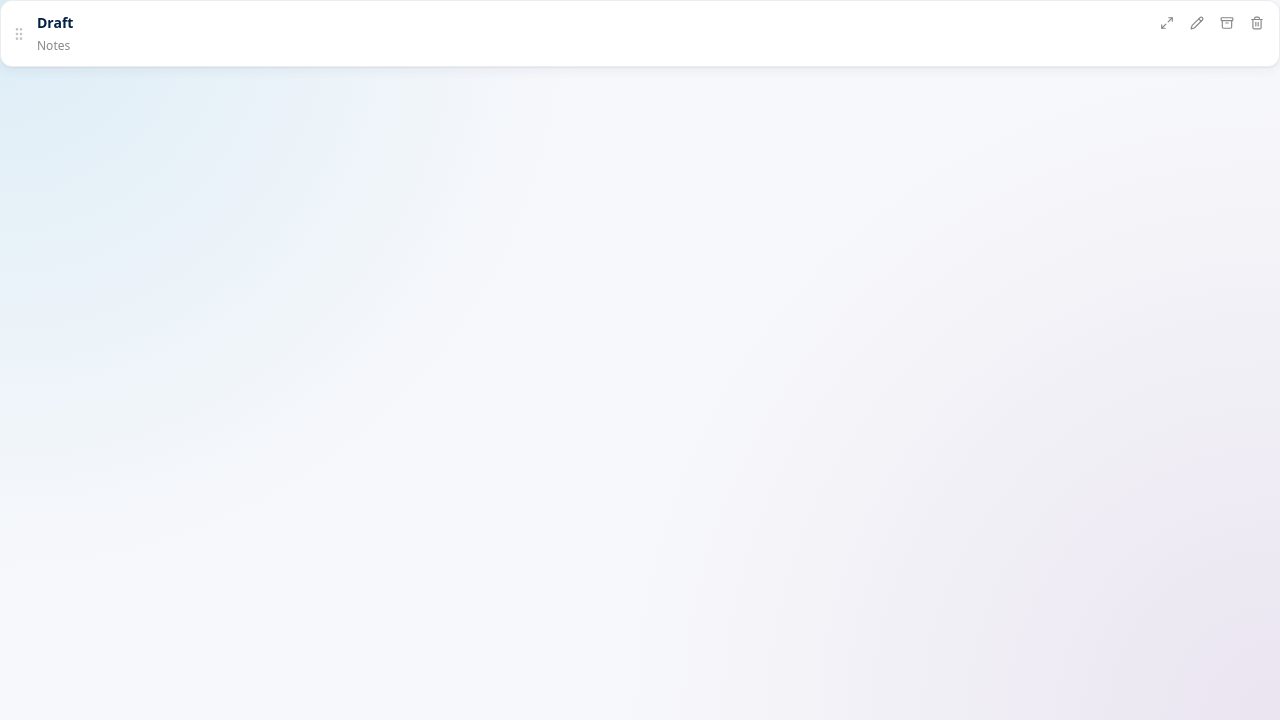
discards edits on cancel
Click the button named "Edit Draft" at (1197, 23), box left=1183, top=9, right=1211, bottom=37
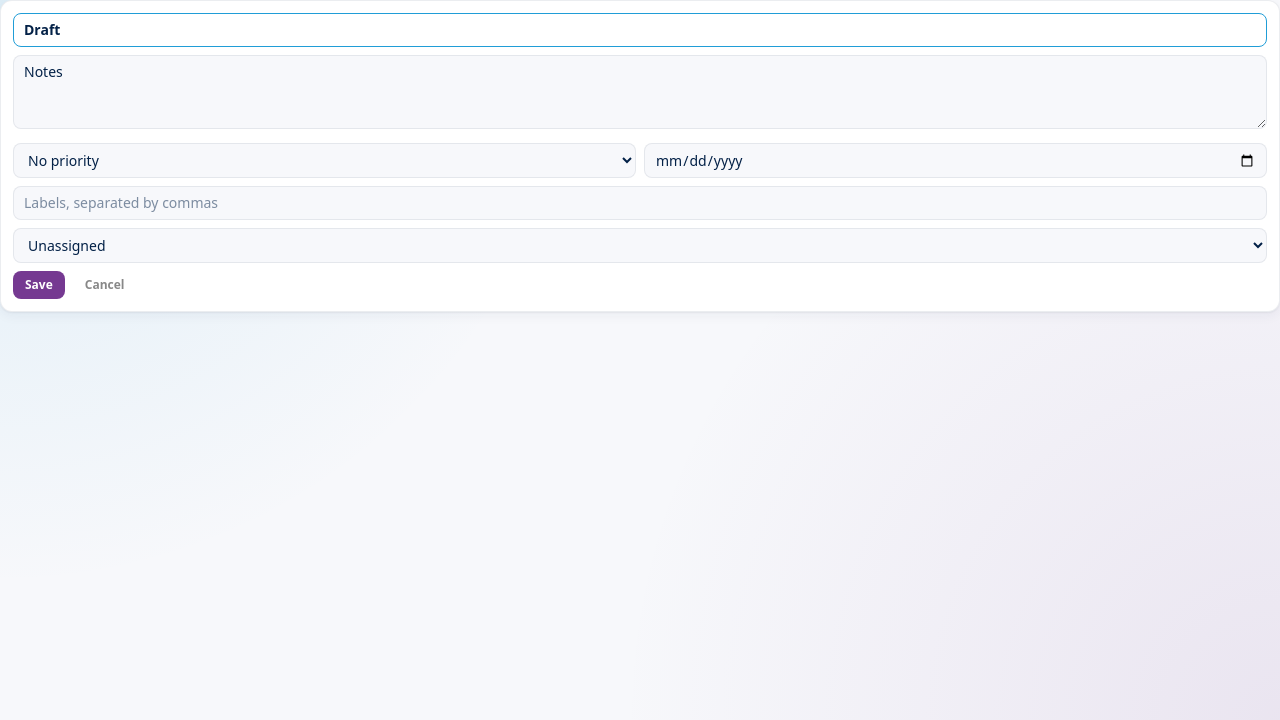
Type " changed" into the field named "Card title" at (640, 30), box left=13, top=13, right=1267, bottom=47
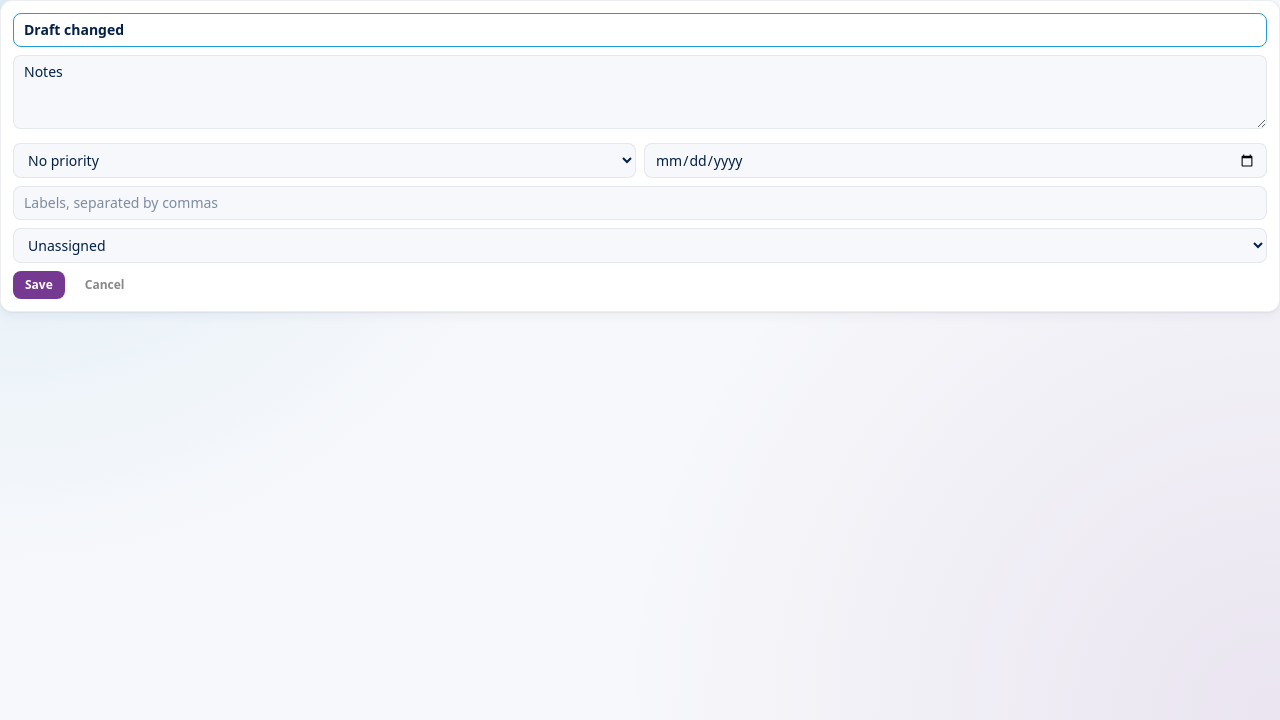
Click the button "Cancel" at (105, 285), box left=73, top=271, right=136, bottom=299
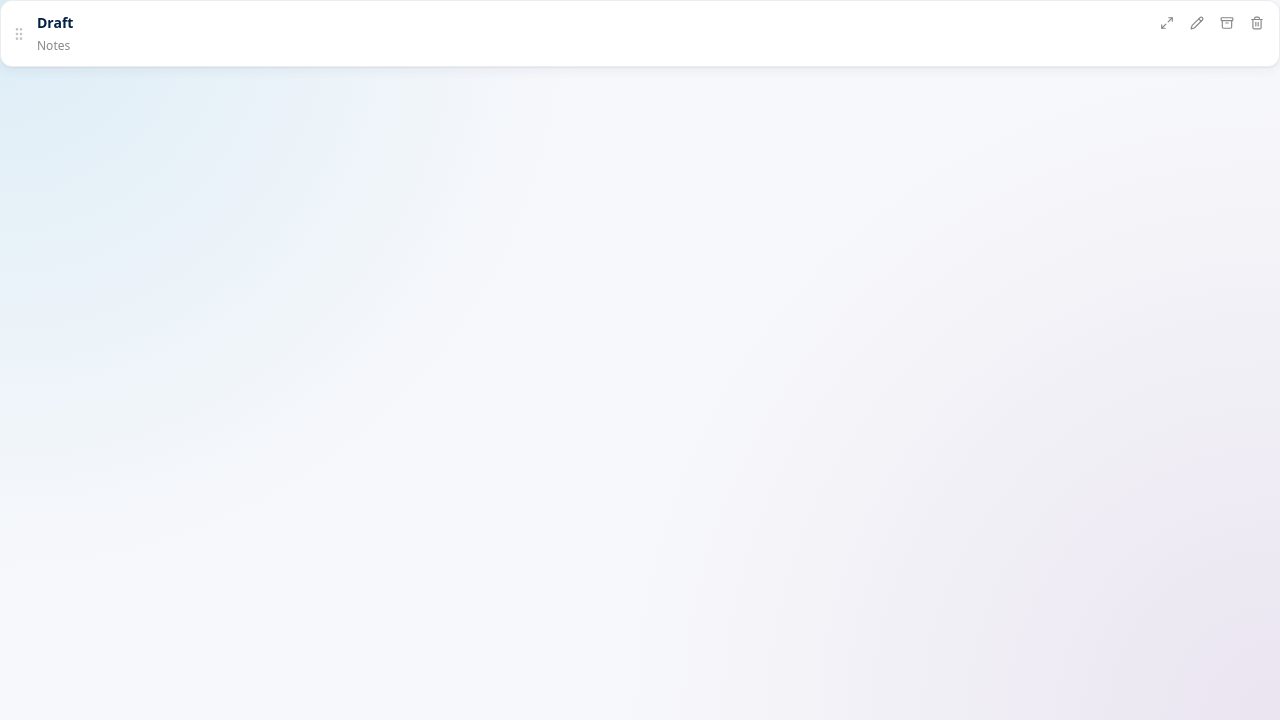
Expected: the heading "Draft" is shown, left=37, top=13, right=73, bottom=32
